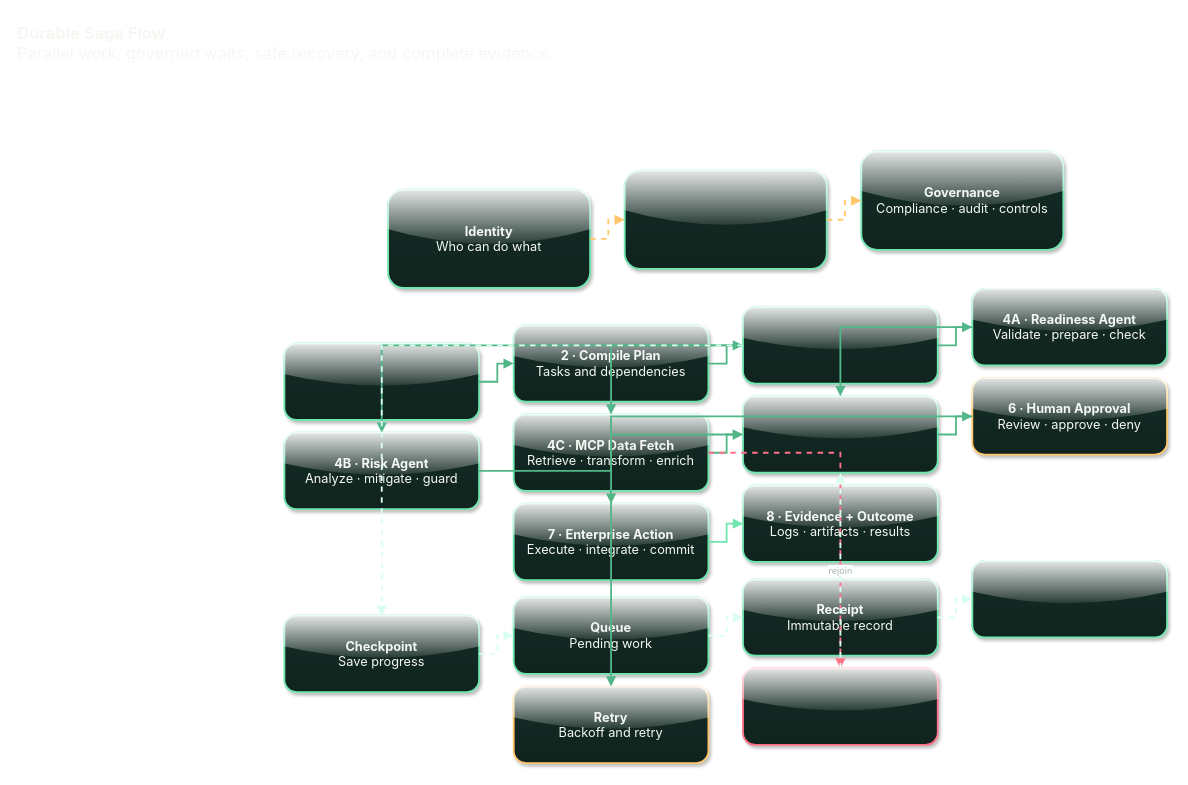
Some shapes in this 1188 by 785 pixel diagram are drawn without their labels. The shapes that lost their labels are listed below. From the top down, each one's centre as x and y in pixels, then its label:
point 726,221: Policy Rules and guardrails
point 841,346: 3 · Start Run Initialize Saga
point 382,383: 1 · Intent User request
point 841,435: 5 · Synthesis Agent Merge · reason · decide
point 1070,600: Run History Trace · search · audit
point 841,707: Compensation Undo · revert · restore
